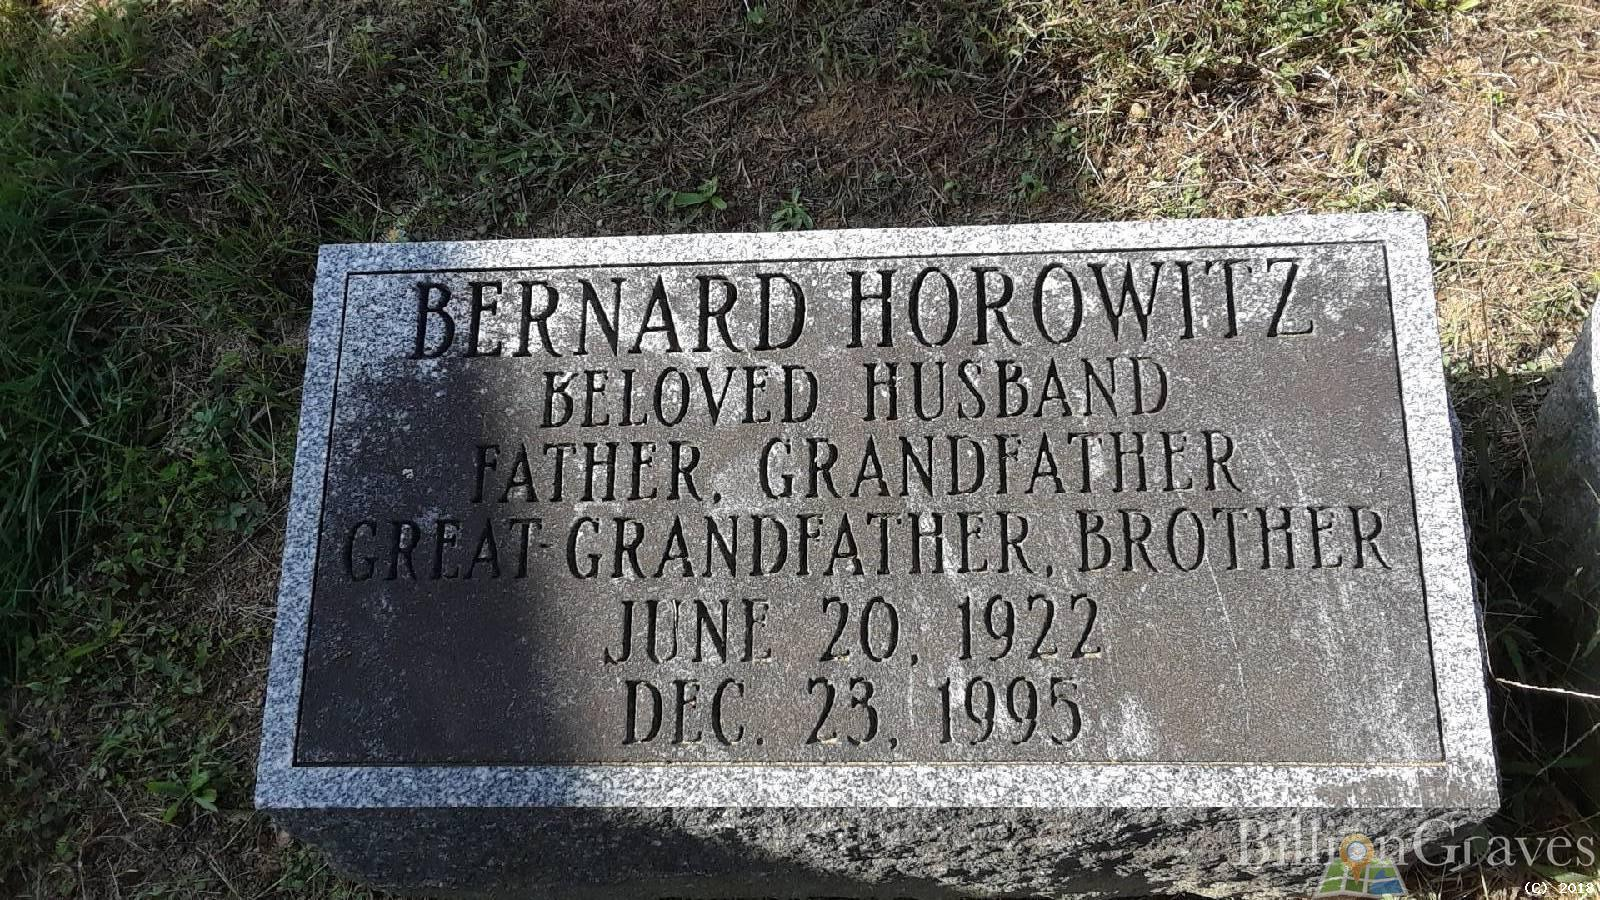flat: (253, 201, 1507, 827)
